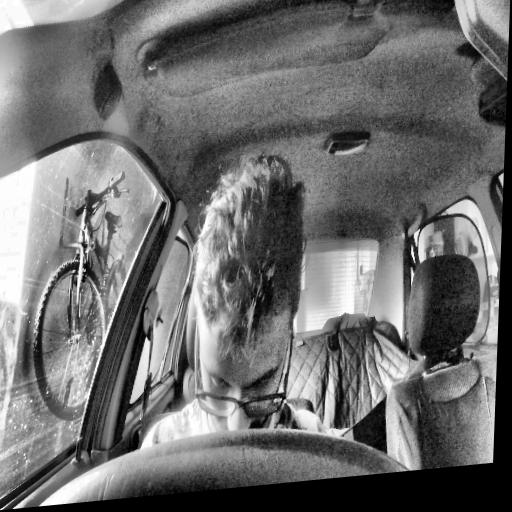drowsy: (187, 150, 309, 449)
